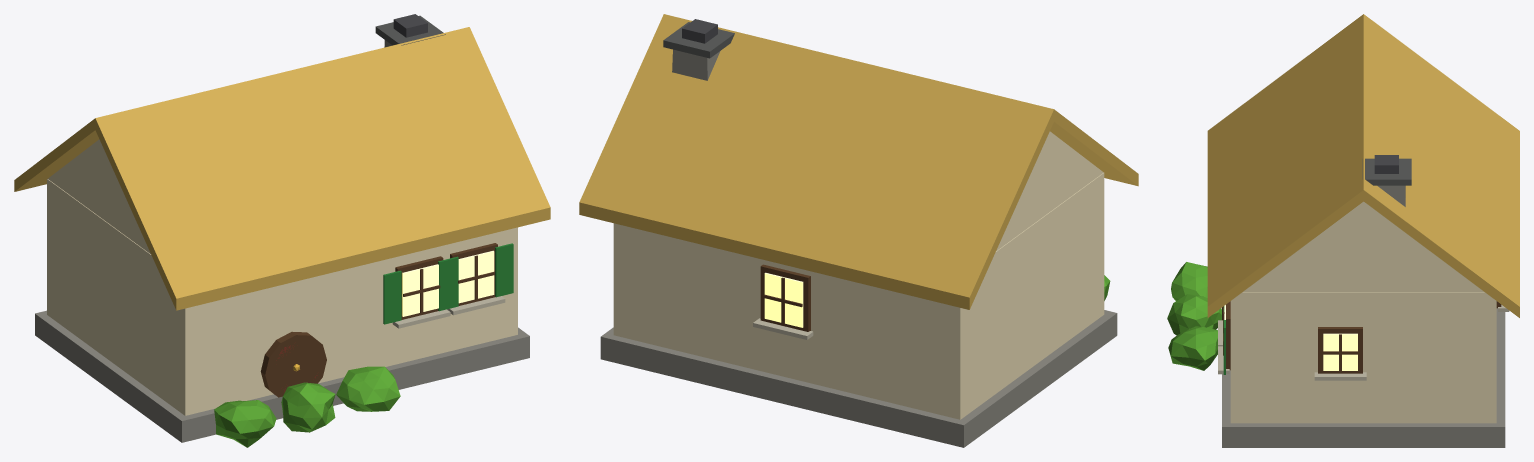
The model's file is hobbit_cottage_1.glb.
The picture shows the model from 3 angles, left to right: view 1: azimuth 30°, elevation 25°; view 2: azimuth 150°, elevation 25°; view 3: azimuth 270°, elevation 25°; orthographic projection. The views are drawn at different scales.
Parts seen in each view (by area): view 1: hobbit_cottage_1; view 2: hobbit_cottage_1; view 3: hobbit_cottage_1.
Part boxes in pixels (bbox=[...]): hobbit_cottage_1: bbox=[14, 14, 550, 447]; hobbit_cottage_1: bbox=[579, 14, 1138, 447]; hobbit_cottage_1: bbox=[1167, 14, 1519, 447].
Size of what is drawn, in the model's own units: 7.2 by 5.29 by 6.1.
